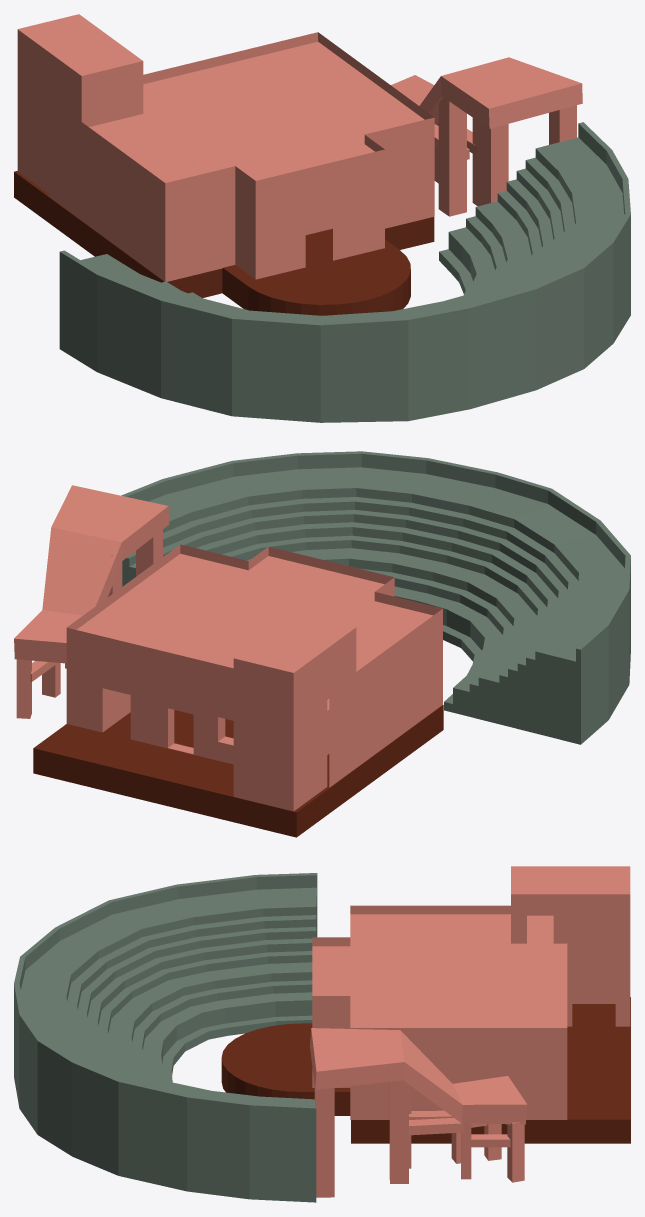
The model's file is oat.fbx.
3 views of the same model, one above another, from view 1: azimuth 30°, elevation 25°; view 2: azimuth 150°, elevation 25°; view 3: azimuth 270°, elevation 25° (orthographic). The views are drawn at different scales.
Visible parts, largest first — view 1: Plane.001, Cube, Cylinder, Cube.006, Cube.007, Cube.011, Cube.009, Cube.008, Cube.010; view 2: Plane.001, Cube, Cube.006, Cylinder, Cube.007, Cube.012, Cube.009, Cube.016; view 3: Plane.001, Cube, Cylinder, Cube.006, Cube.007, Cube.008, Cube.010, Cube.012, Cube.014, Cube.016, Cube.019.
Boxes of the visible parts, left/top/right/bottom form: Plane.001: left=59, top=122, right=630, bottom=422; Cube: left=48, top=32, right=434, bottom=281; Cylinder: left=14, top=171, right=434, bottom=315; Cube.006: left=17, top=14, right=143, bottom=193; Cube.007: left=391, top=57, right=582, bottom=128; Cube.011: left=438, top=97, right=466, bottom=216; Cube.009: left=480, top=123, right=508, bottom=205; Cube.008: left=549, top=105, right=576, bottom=144; Cube.010: left=472, top=118, right=480, bottom=206; Plane.001: left=121, top=451, right=630, bottom=744; Cube: left=66, top=544, right=442, bottom=787; Cube.006: left=233, top=612, right=356, bottom=811; Cylinder: left=33, top=705, right=443, bottom=837; Cube.007: left=14, top=485, right=169, bottom=663; Cube.012: left=16, top=659, right=31, bottom=718; Cube.009: left=136, top=530, right=162, bottom=576; Cube.016: left=42, top=662, right=60, bottom=697; Plane.001: left=14, top=873, right=317, bottom=1202; Cube: left=312, top=905, right=567, bottom=1119; Cylinder: left=221, top=997, right=630, bottom=1143; Cube.006: left=511, top=866, right=630, bottom=1026; Cube.007: left=310, top=1028, right=527, bottom=1124; Cube.008: left=315, top=1088, right=334, bottom=1197; Cube.010: left=389, top=1080, right=408, bottom=1183; Cube.012: left=507, top=1122, right=524, bottom=1182; Cube.014: left=409, top=1118, right=464, bottom=1135; Cube.016: left=461, top=1123, right=471, bottom=1179; Cube.019: left=471, top=1134, right=510, bottom=1147.
Size of the model in its own units: 4237 by 1324 by 4648.
